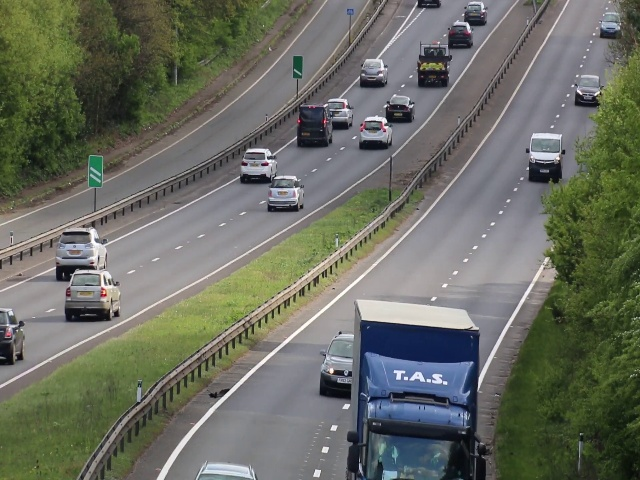car: (356, 411, 485, 480), (64, 272, 123, 323), (56, 227, 109, 279), (321, 334, 350, 398), (528, 133, 564, 181), (418, 40, 450, 89), (298, 103, 333, 146), (267, 173, 305, 212), (1, 308, 27, 365), (192, 460, 256, 480), (240, 147, 277, 181), (359, 113, 393, 149), (359, 56, 389, 88), (575, 74, 602, 107), (328, 95, 355, 128), (385, 95, 416, 123), (448, 21, 474, 50), (462, 1, 488, 24), (599, 12, 621, 39)
